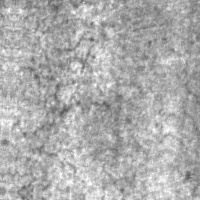crazing: (9, 0, 128, 146), (2, 140, 81, 196)
